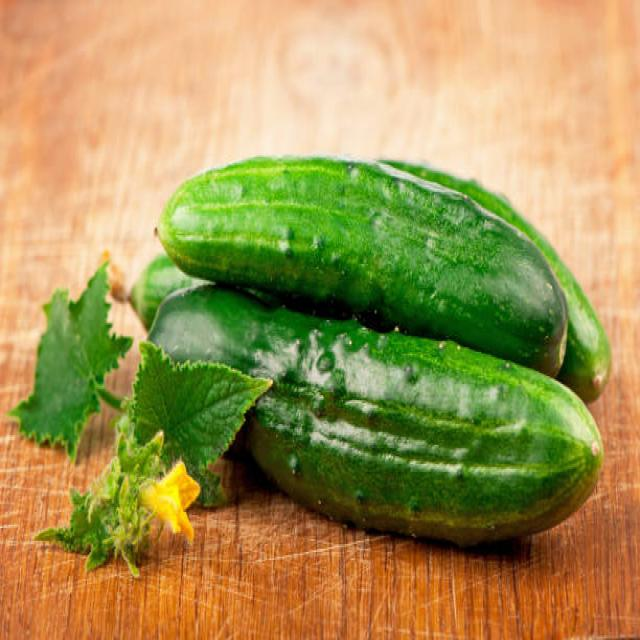cucumber: (147, 285, 608, 540), (158, 156, 568, 371)
